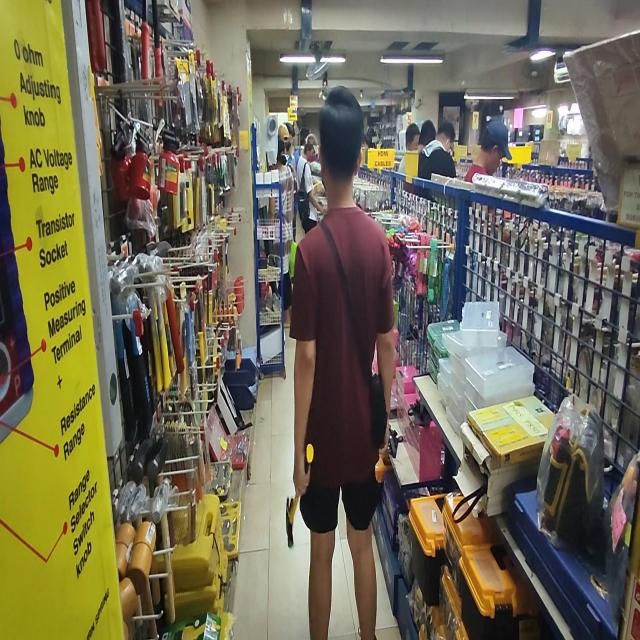hammer: (286, 444, 314, 547)
